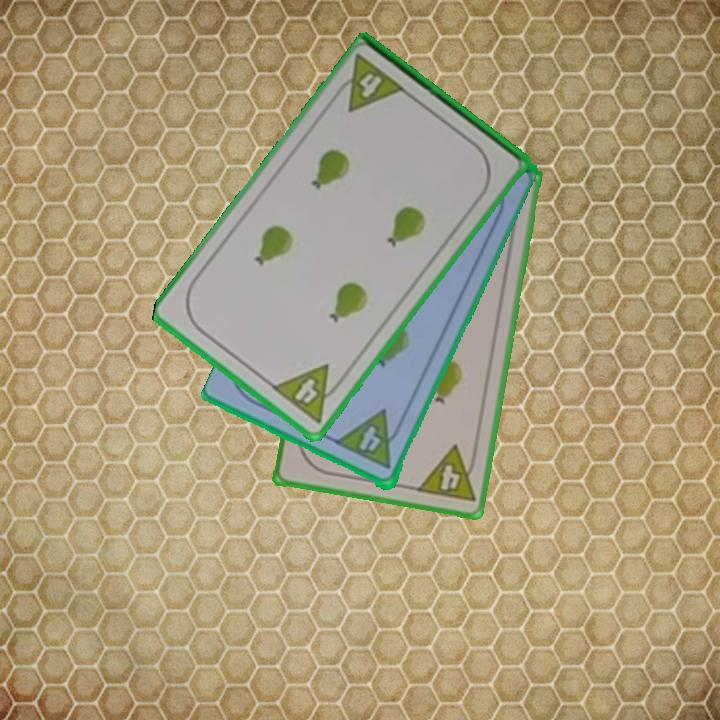4p: (268, 360, 349, 427), (329, 51, 409, 115), (333, 407, 408, 473), (413, 442, 481, 506)
